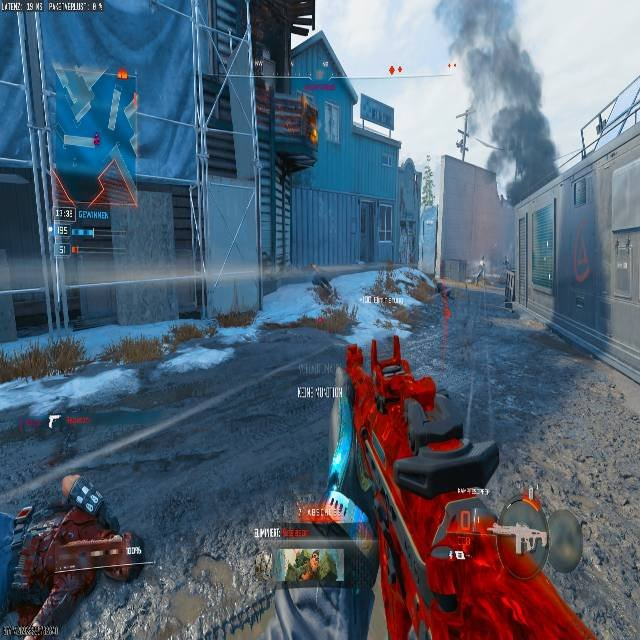player: (23, 472, 144, 639)
